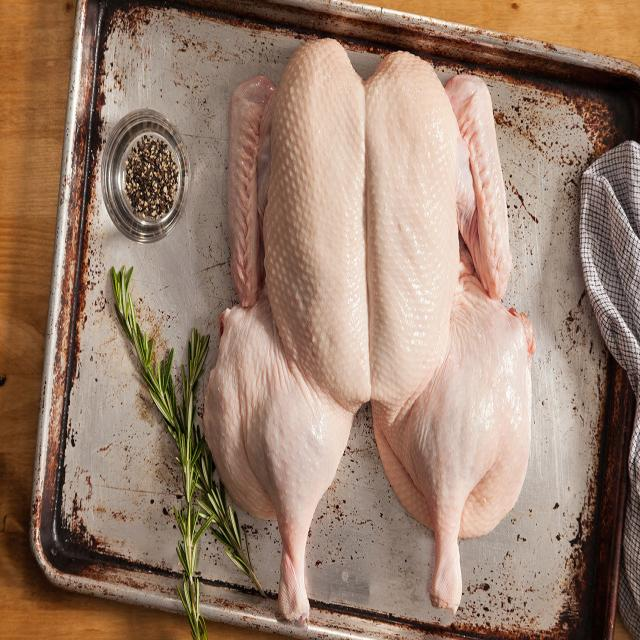duck: (205, 39, 535, 621)
